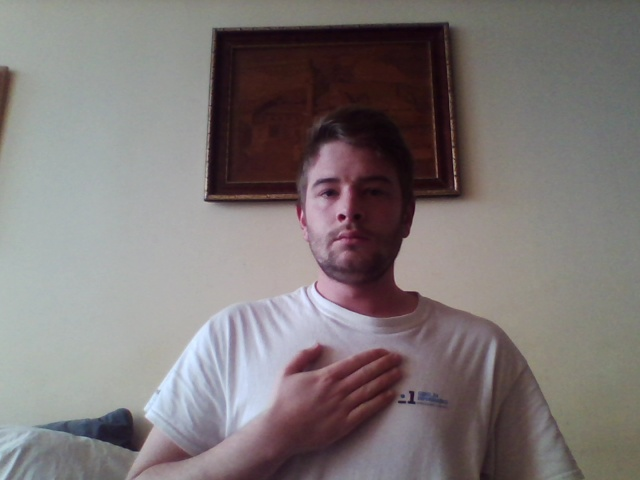molimte: (272, 341, 403, 459)
